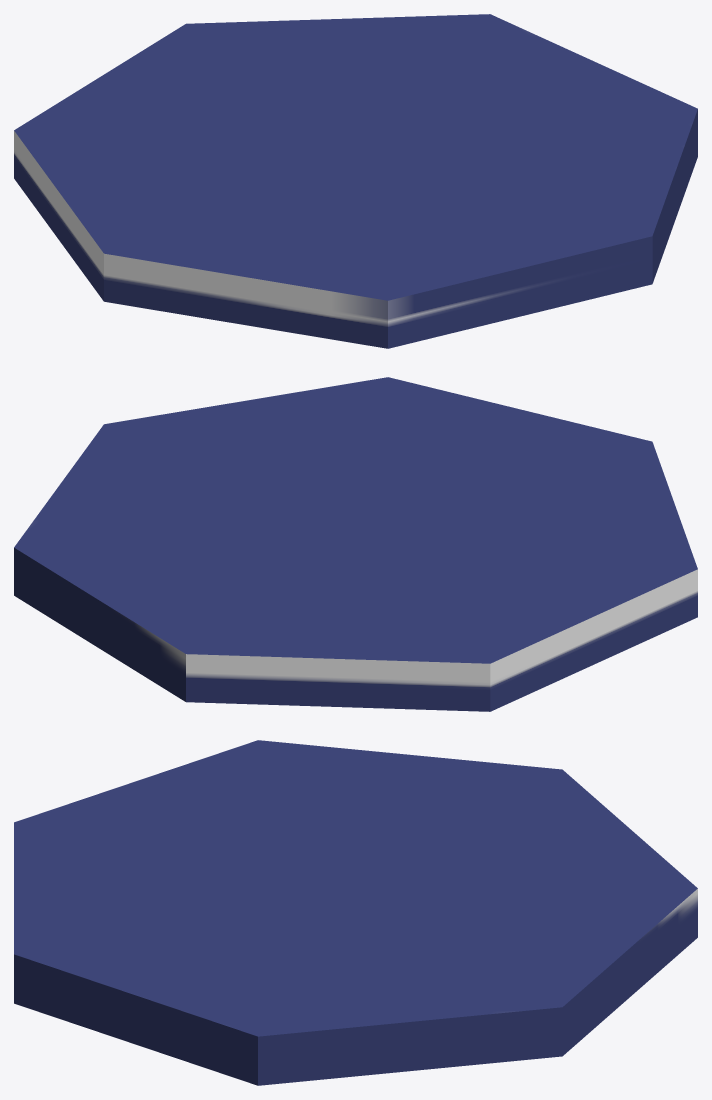
File: Water.fbx
3 renders of one model, top to bottom at view 1: azimuth 30°, elevation 25°; view 2: azimuth 150°, elevation 25°; view 3: azimuth 270°, elevation 25°, orthographic. The views are drawn at different scales.
Parts seen in each view (by area): view 1: Cylinder.002; view 2: Cylinder.002; view 3: Cylinder.002.
Part boxes in pixels (box(x1,y1,x2,y2)): Cylinder.002: box(14, 14, 697, 348); Cylinder.002: box(14, 377, 697, 711); Cylinder.002: box(14, 740, 697, 1085).
Bounding box in the file's own units: 40.15 × 3.11 × 39.14.
